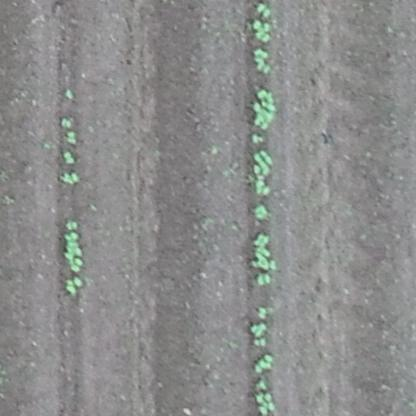vc: (62, 219, 85, 275), (249, 86, 278, 128), (250, 149, 276, 195), (251, 380, 279, 415), (251, 232, 275, 272), (254, 47, 275, 76), (247, 322, 271, 347), (247, 21, 275, 42), (252, 352, 276, 374), (251, 202, 271, 222), (255, 2, 278, 19), (58, 170, 82, 186), (62, 278, 85, 294), (257, 302, 271, 319), (61, 151, 77, 165), (249, 132, 265, 145), (58, 116, 73, 129), (255, 275, 272, 286), (65, 133, 78, 146), (64, 87, 75, 101)
